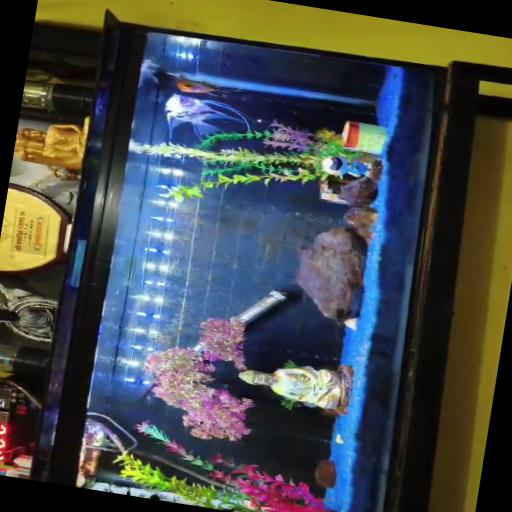Fish: (165, 94, 250, 139), (176, 76, 244, 95), (139, 59, 159, 87)
